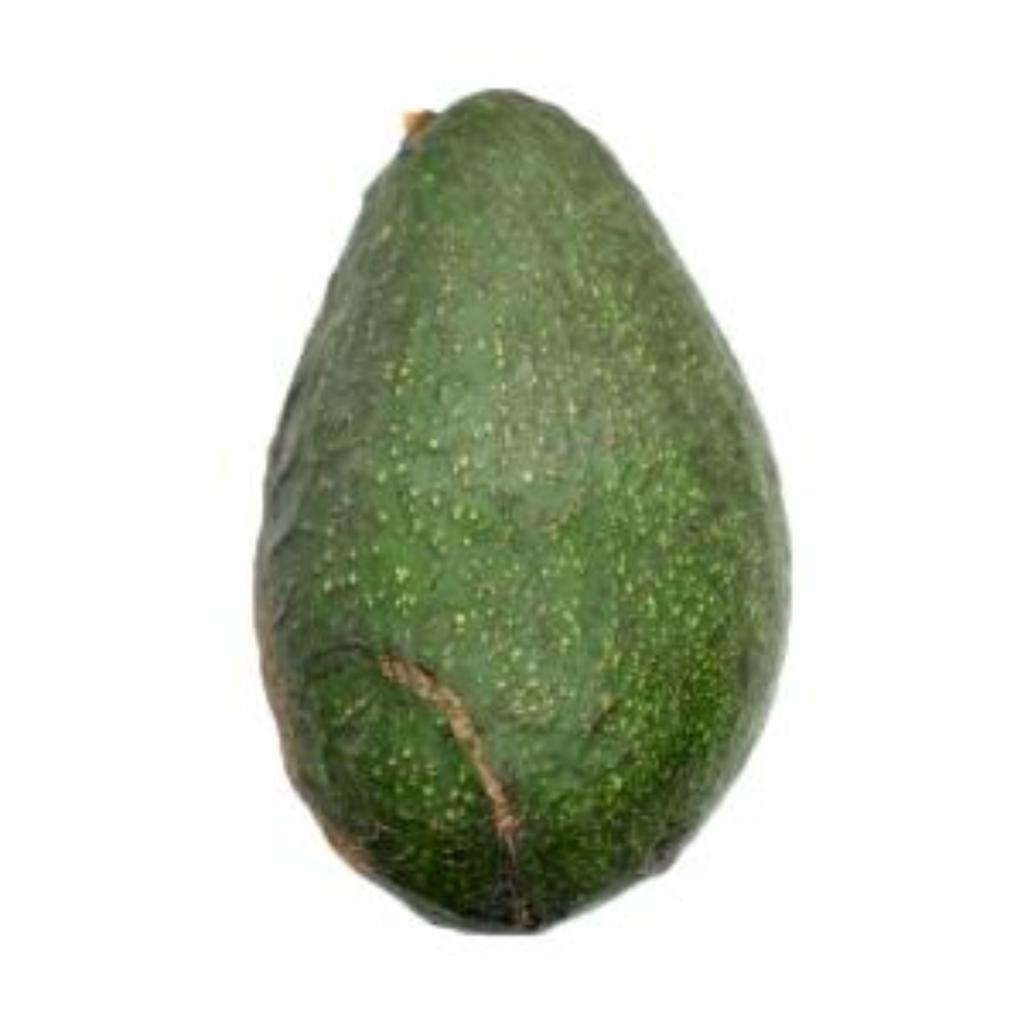cercospora_spot: (250, 90, 794, 938)
